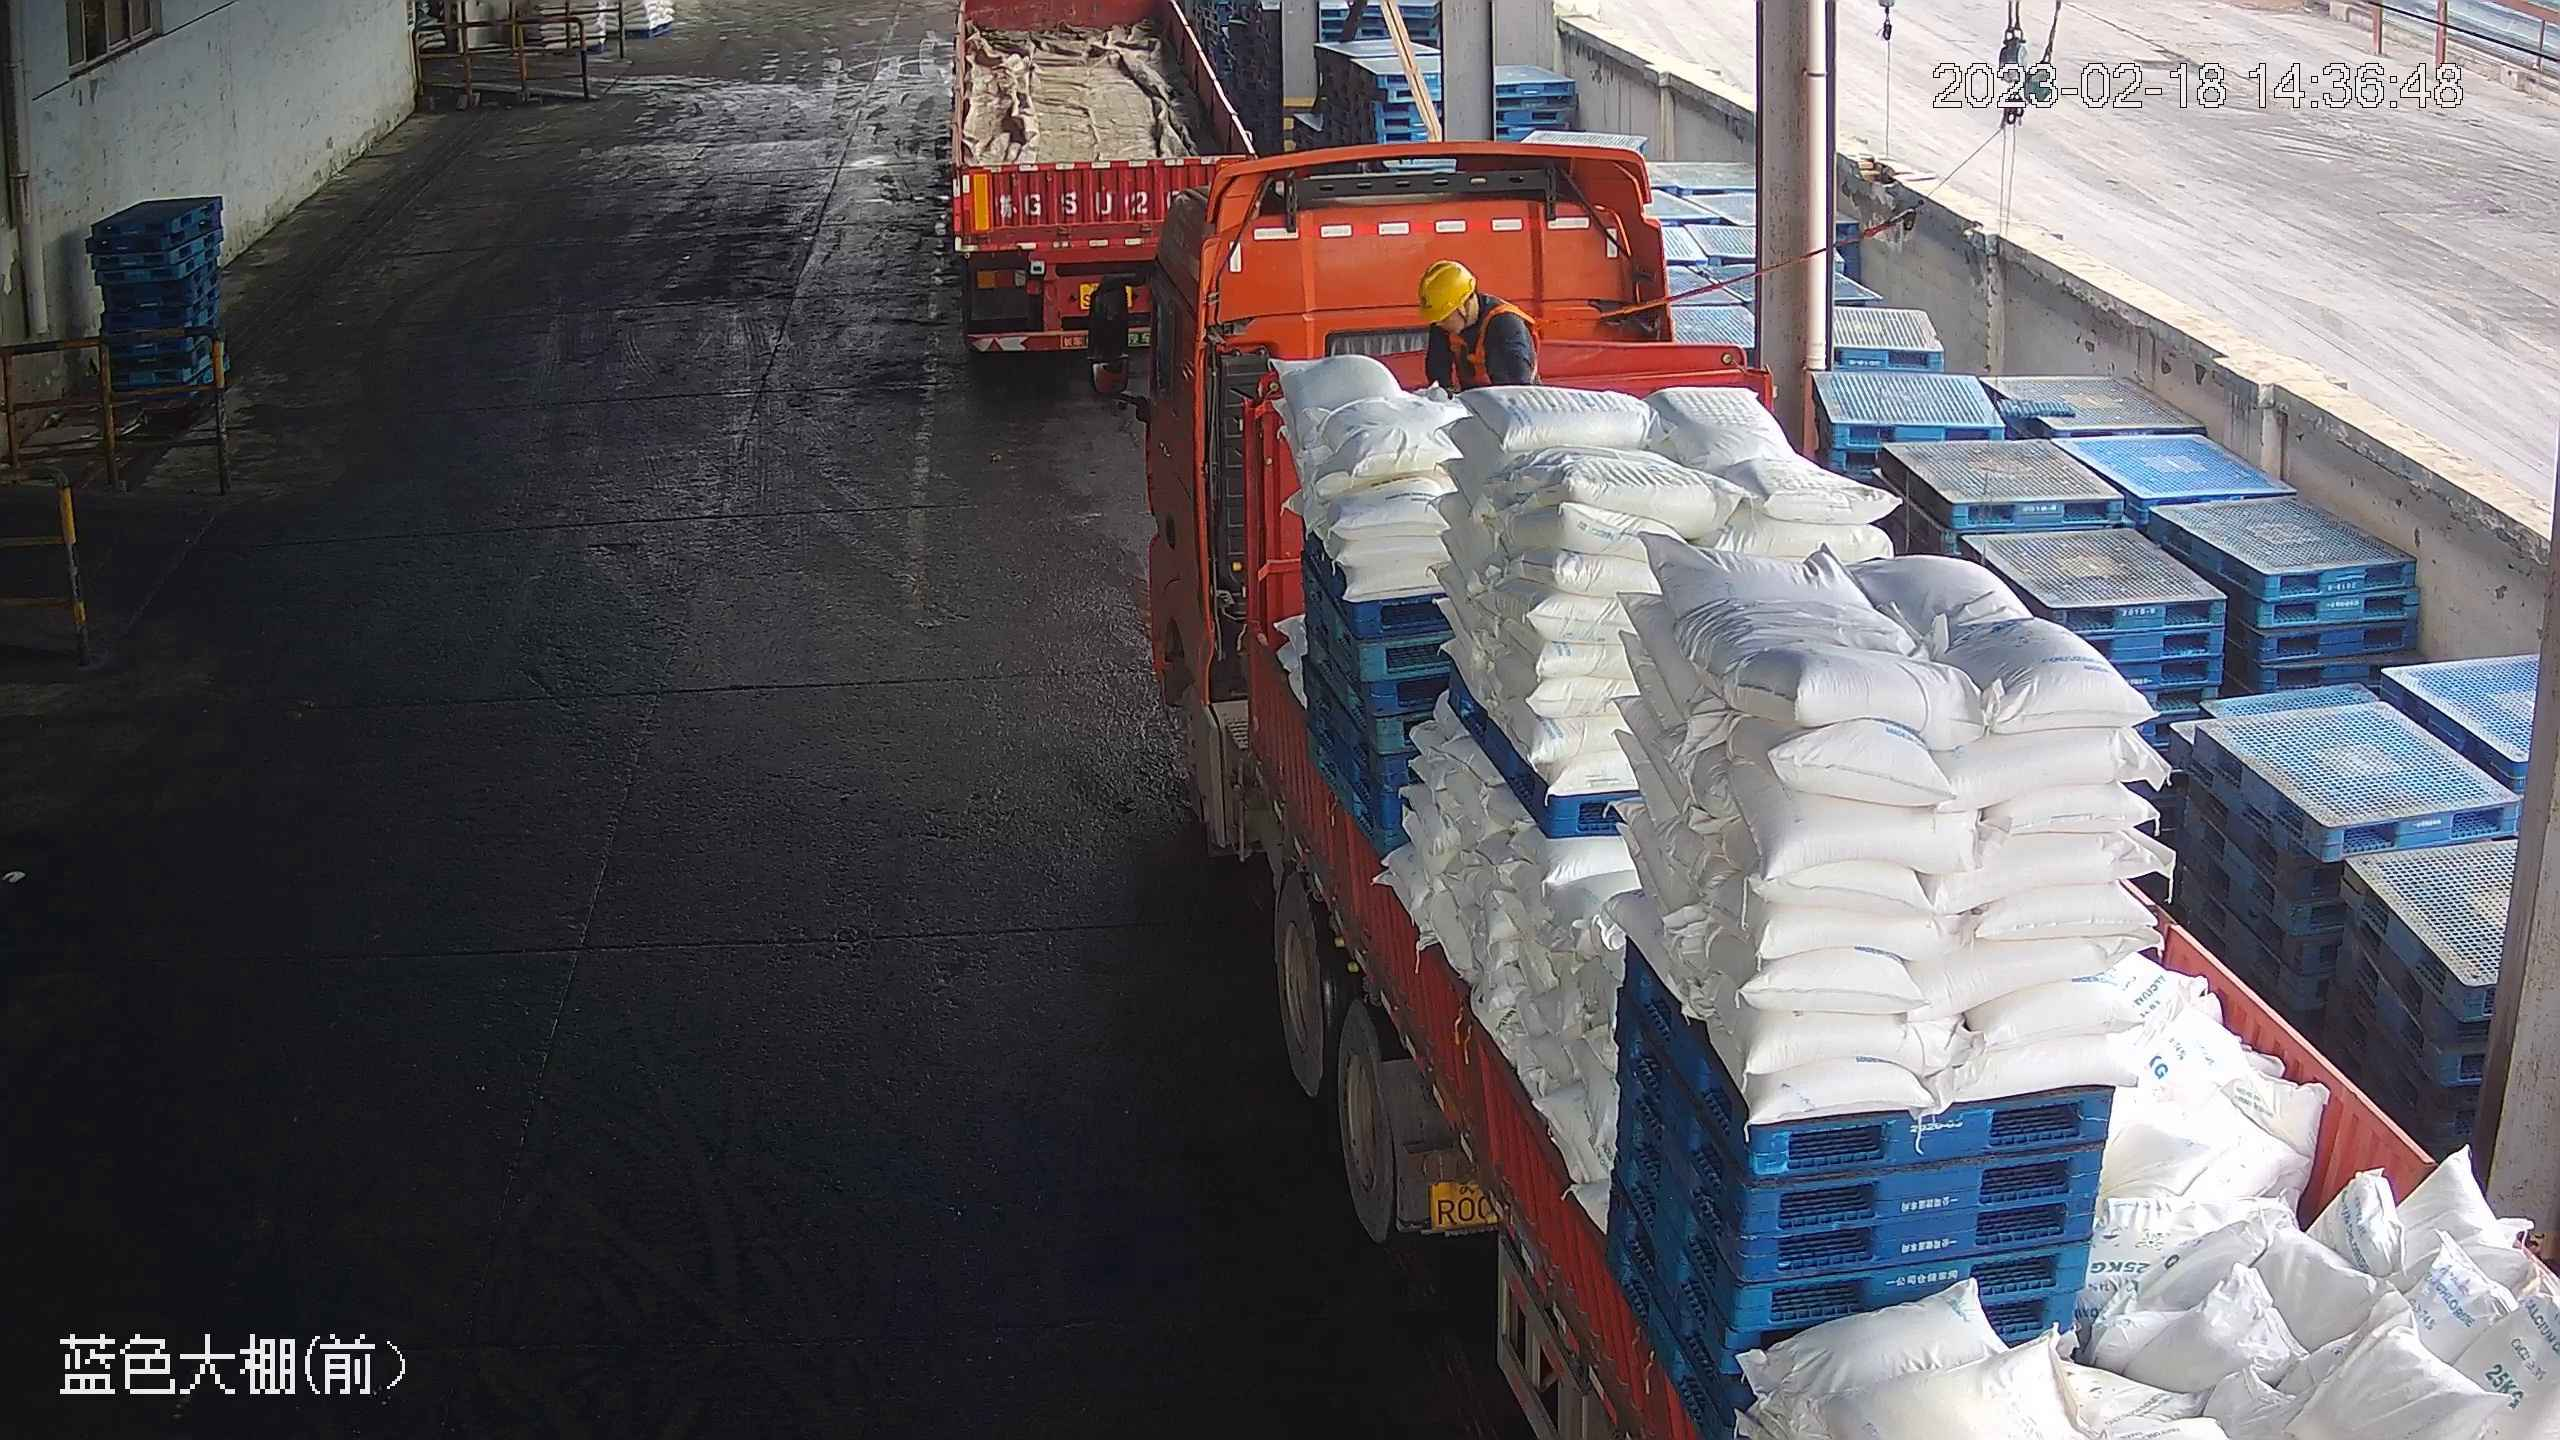belt: (1451, 305, 1538, 387)
head: (1417, 260, 1520, 346), (1416, 255, 1480, 322)
helmet: (1415, 259, 1480, 321)
truck: (1195, 141, 2557, 1440), (945, 4, 1263, 389)
